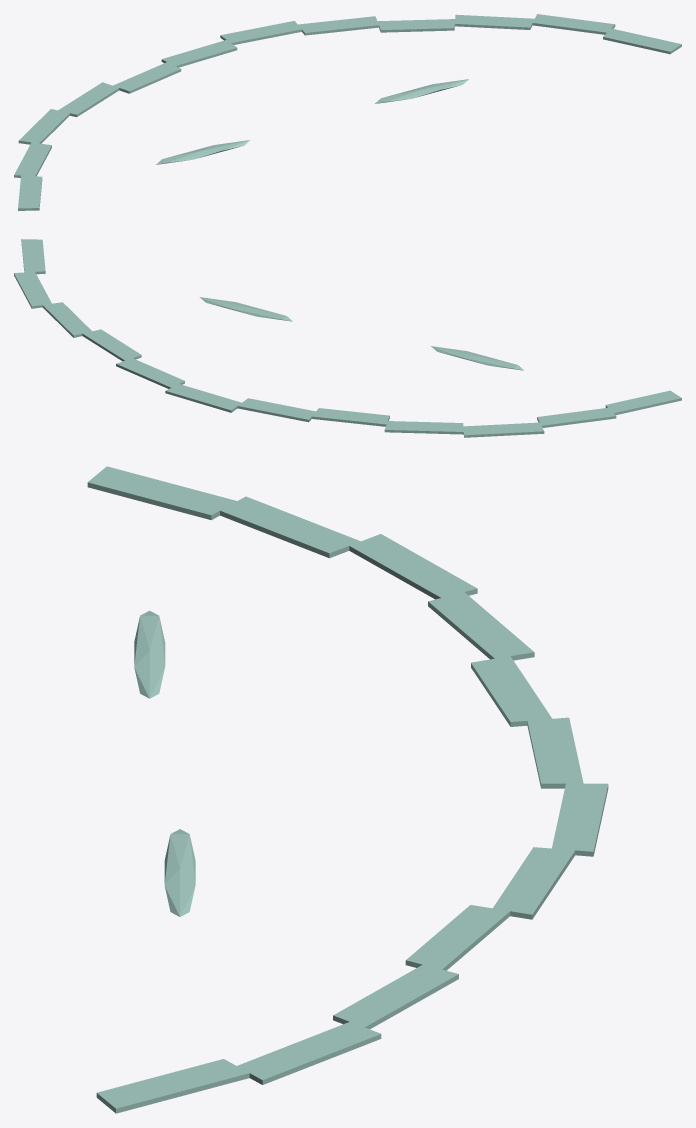
File: PirateCove_ShoreFoam_Standard.glb
3 renders of one model, top to bottom at view 1: azimuth 30°, elevation 25°; view 2: azimuth 150°, elevation 25°; view 3: azimuth 270°, elevation 25°, orthographic. The views are drawn at different scales.
Parts seen in each view (by area): view 1: PirateCove_ShoreFoam_Standard; view 2: PirateCove_ShoreFoam_Standard; view 3: PirateCove_ShoreFoam_Standard.
Part boxes in pixels (left/top/right/bottom): PirateCove_ShoreFoam_Standard: left=14, top=14, right=681, bottom=210; PirateCove_ShoreFoam_Standard: left=14, top=239, right=681, bottom=437; PirateCove_ShoreFoam_Standard: left=87, top=466, right=608, bottom=1113.
Bounding box in the file's own units: 5 × 0.035 × 1.71.
